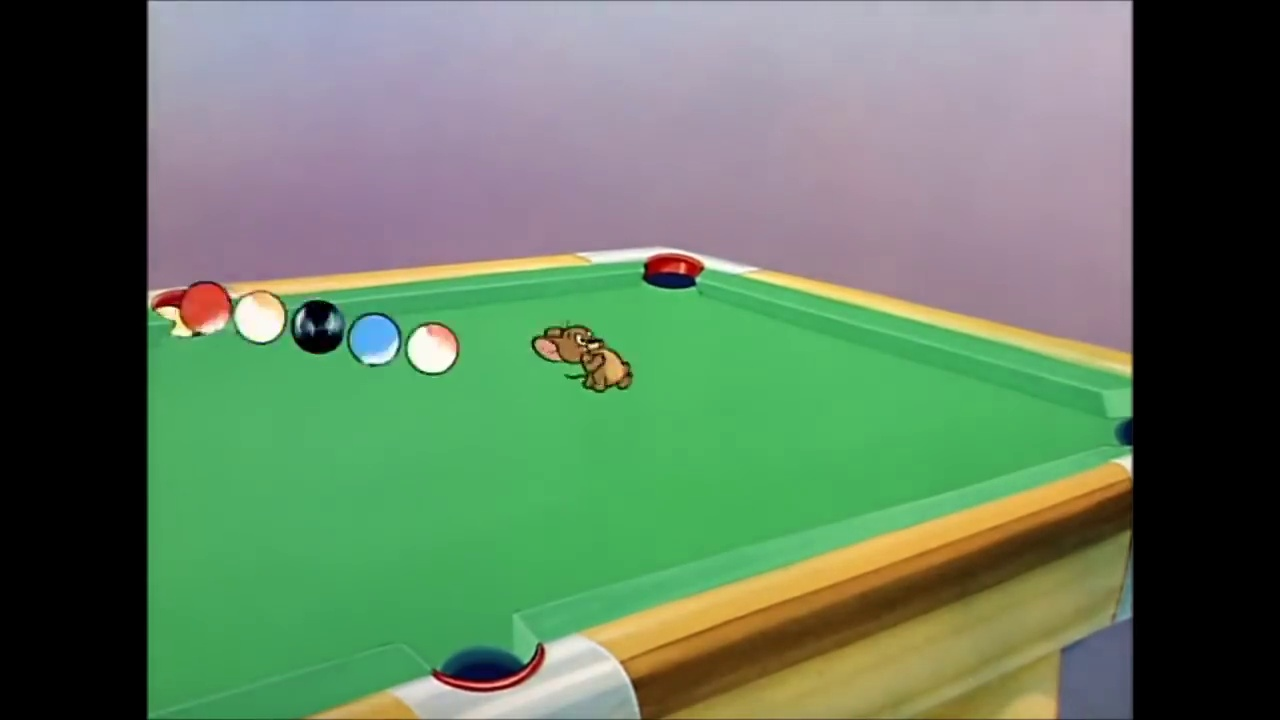sad: (566, 325, 603, 355)
